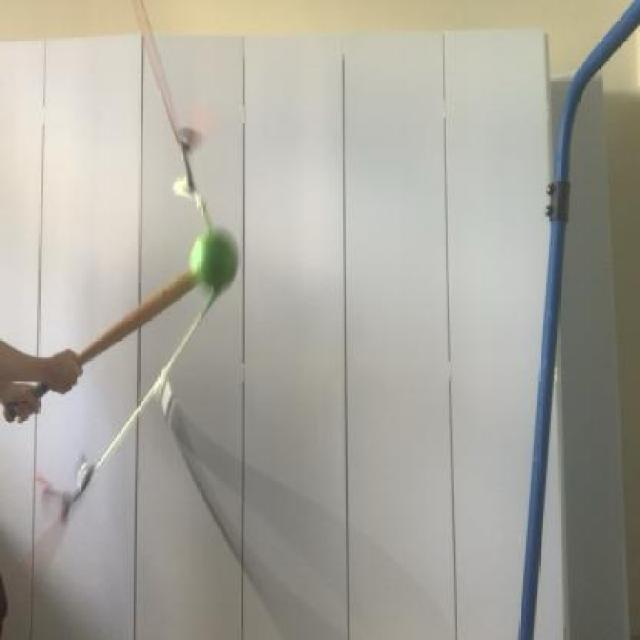baseball: (182, 226, 246, 296)
